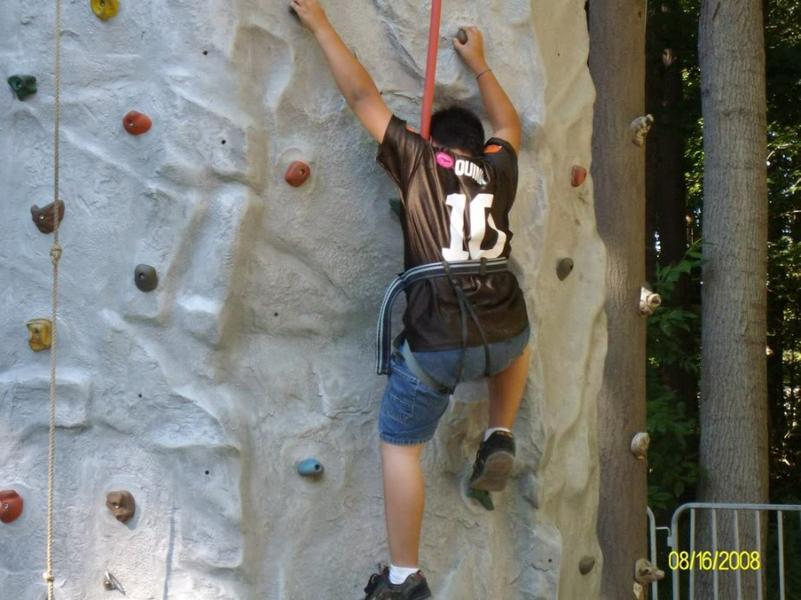person: (293, 5, 532, 599)
